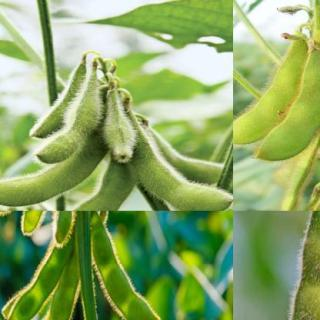soya: (90, 211, 162, 319), (233, 43, 306, 144), (0, 142, 109, 209), (256, 50, 320, 162), (134, 145, 232, 210), (36, 73, 102, 165), (6, 243, 75, 319), (275, 211, 319, 319), (26, 63, 88, 139), (58, 164, 137, 210), (26, 257, 79, 319), (276, 136, 320, 210), (164, 141, 220, 184), (103, 93, 136, 163), (54, 211, 78, 243), (20, 211, 55, 232)
